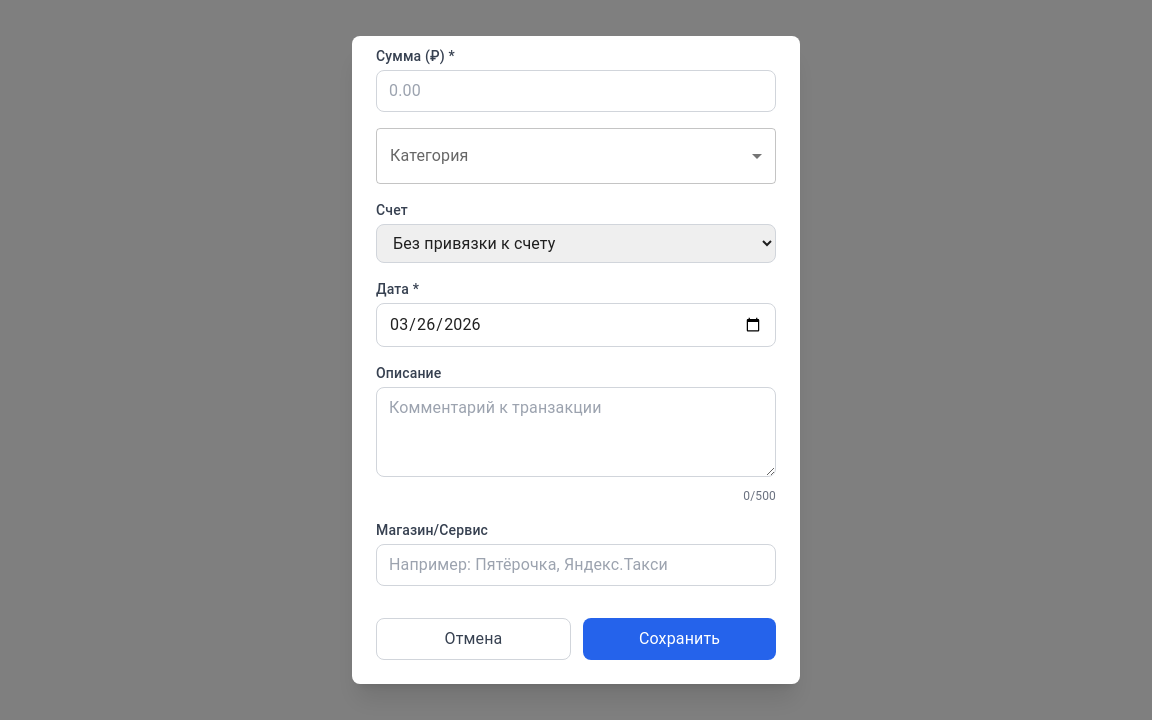
Scenario: TransactionForm › shows validation errors on empty submit
(page scrolled)
Click the button "Сохранить". click: click(680, 639)
box: [583,618,776,660]
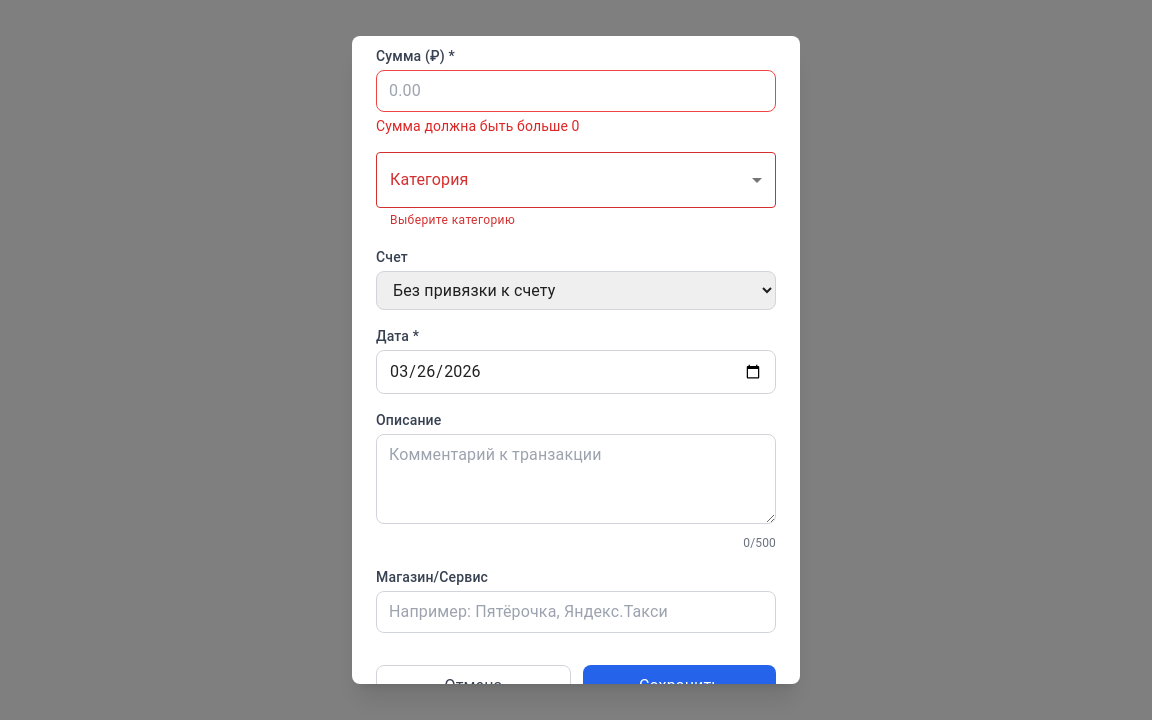
Result: the text "Сумма должна быть больше 0" is shown at [376,118,580,134]
Result: the text "Выберите категорию" is shown at [390,213,515,227]
